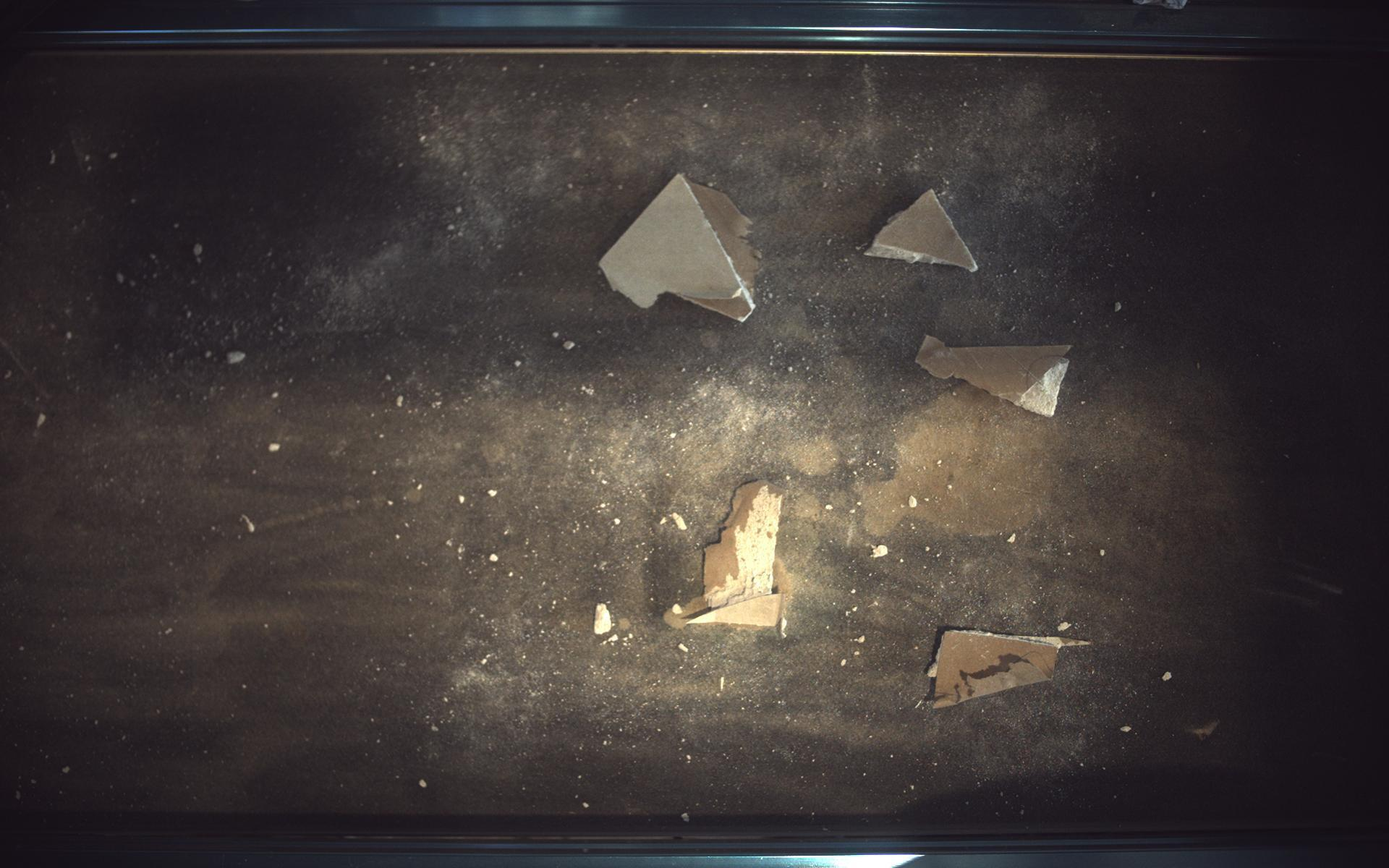gypsum_board: (600, 174, 760, 321), (665, 482, 793, 631), (930, 631, 1092, 710), (918, 335, 1073, 417), (867, 188, 980, 271)
